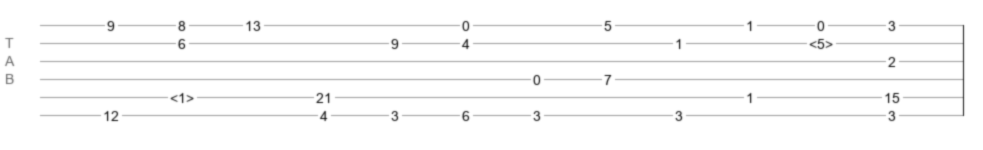0: (462, 18, 470, 28), (533, 72, 541, 82), (817, 18, 825, 28)
1: (675, 36, 683, 46), (746, 18, 754, 28), (746, 90, 754, 100)
12: (103, 108, 119, 118)
13: (245, 18, 261, 28)
15: (884, 90, 900, 100)
2: (888, 54, 896, 64)
21: (316, 90, 332, 100)
3: (391, 108, 399, 118), (533, 108, 541, 118), (675, 108, 683, 118), (888, 18, 896, 28), (888, 108, 896, 118)
4: (320, 108, 328, 118), (462, 36, 470, 46)
5: (604, 18, 612, 28)
6: (178, 36, 186, 46), (462, 108, 470, 118)
7: (604, 72, 612, 82)
8: (178, 18, 186, 28)
9: (107, 18, 115, 28), (391, 36, 399, 46)
harmonic: (170, 90, 194, 100), (809, 36, 833, 46)
